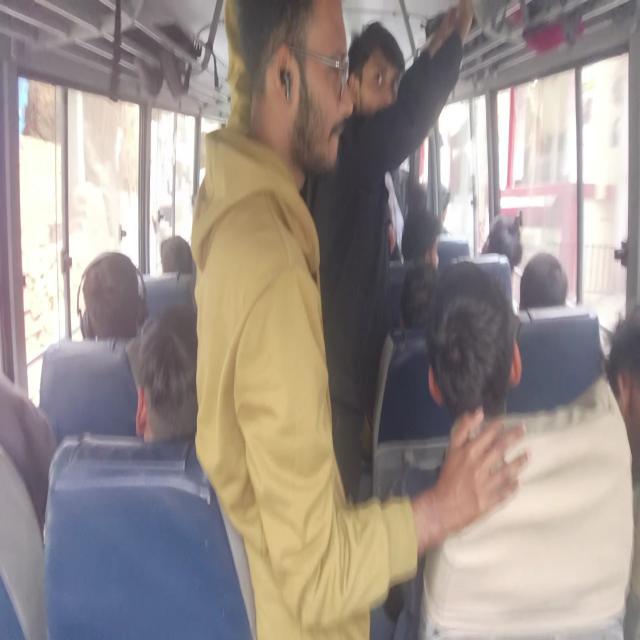person: (432, 262, 524, 412), (127, 300, 201, 443), (292, 4, 352, 170), (350, 20, 406, 87), (143, 224, 200, 278), (80, 262, 136, 316), (518, 252, 568, 311), (400, 198, 442, 268), (398, 261, 438, 331), (482, 215, 524, 274)
